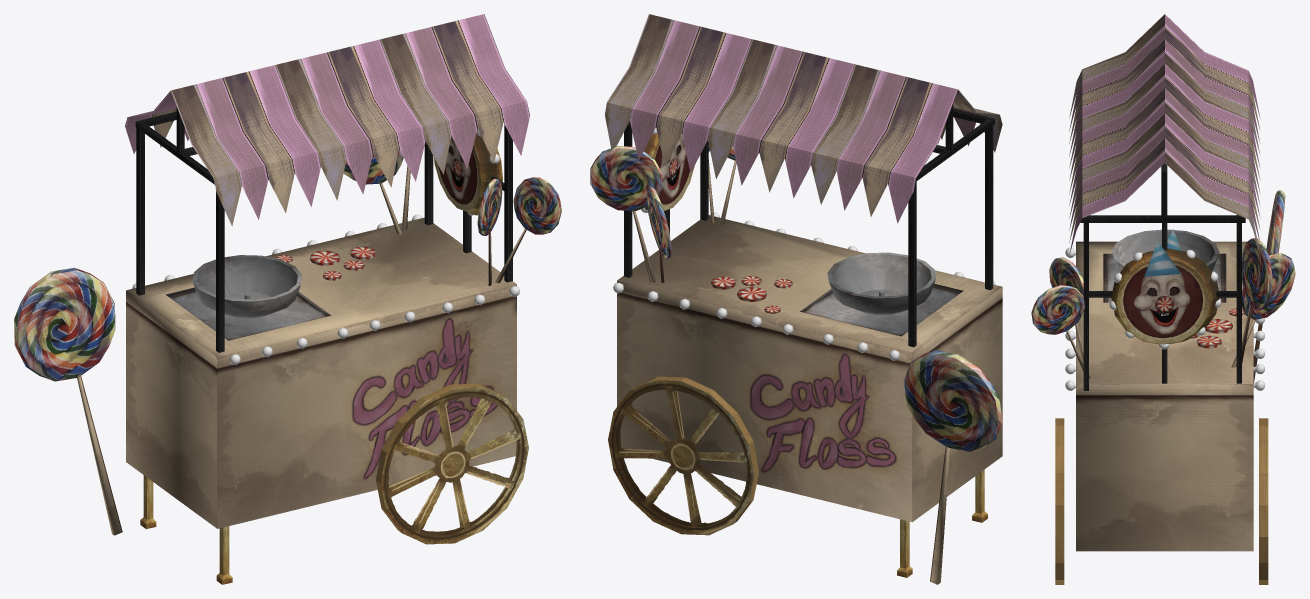
File: candy shop.fbx
The picture shows the model from 3 angles, left to right: view 1: azimuth 30°, elevation 25°; view 2: azimuth 150°, elevation 25°; view 3: azimuth 270°, elevation 25°; orthographic projection. The views are drawn at different scales.
Visible parts, largest first — view 1: Plane.021, Plane.026; view 2: Plane.021, Plane.026; view 3: Plane.021, Plane.026.
Part boxes in pixels (bbox=[...]): Plane.021: bbox=[125, 14, 561, 584]; Plane.026: bbox=[14, 267, 122, 535]; Plane.021: bbox=[590, 14, 1002, 577]; Plane.026: bbox=[903, 350, 1002, 584]; Plane.021: bbox=[1031, 14, 1295, 584]; Plane.026: bbox=[1253, 190, 1285, 383].
Size of the model in its own units: 141 by 78.27 by 149.
